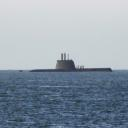submarine: (21, 52, 115, 73)
